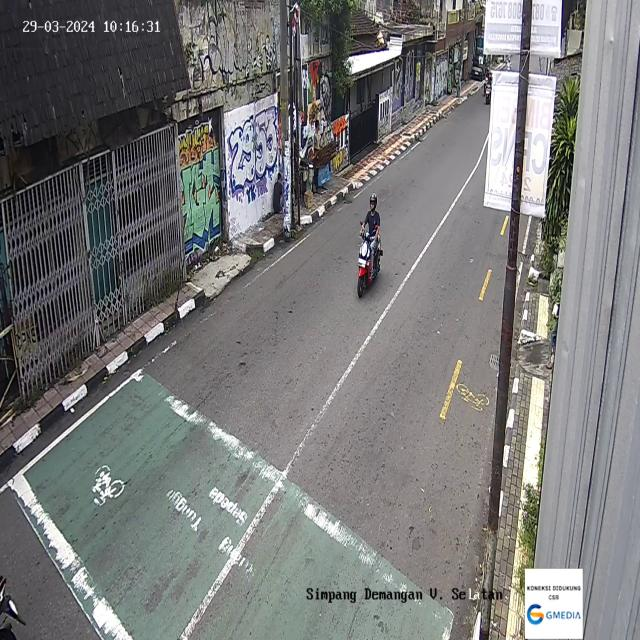motorcycle: (356, 191, 384, 298)
